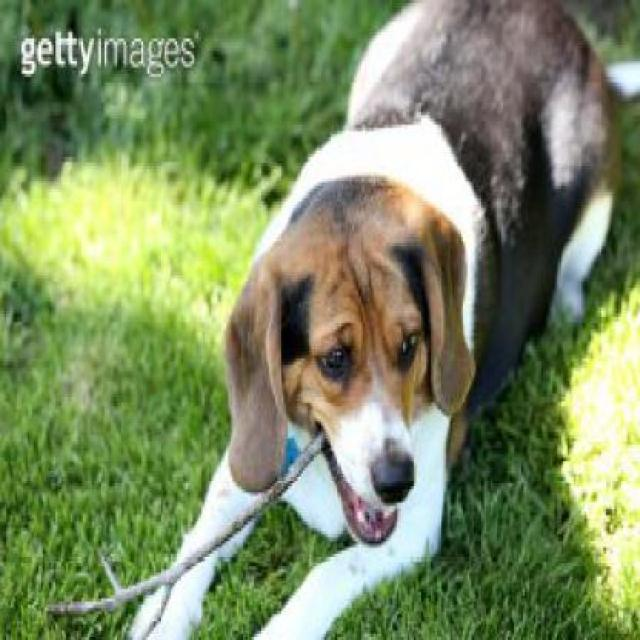Dog: (215, 0, 634, 637)
